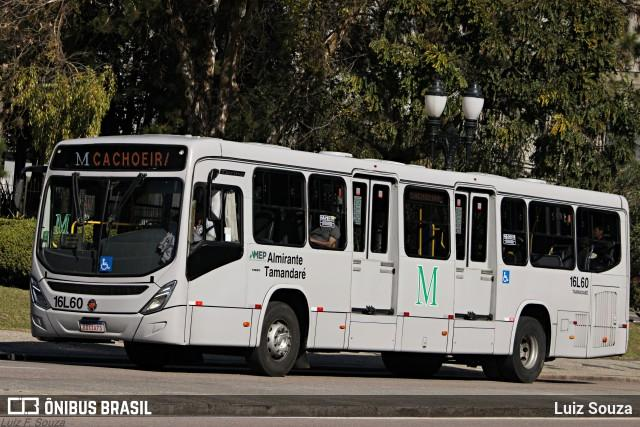CACHOEIRA: (89, 147, 174, 171)
